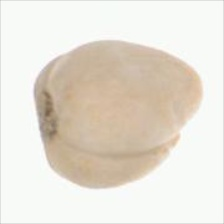L3: (173, 84, 203, 144)
L4: (33, 40, 203, 189)
